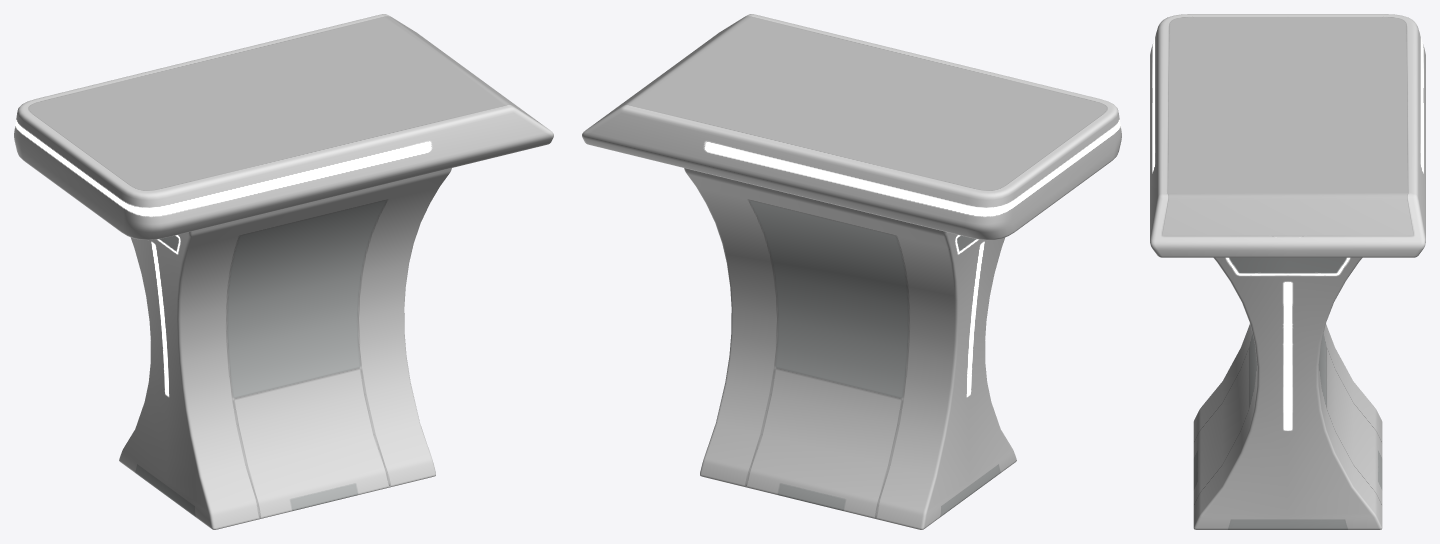
The model's file is BarTable02.FBX.
The picture shows the model from 3 angles, left to right: view 1: azimuth 30°, elevation 25°; view 2: azimuth 150°, elevation 25°; view 3: azimuth 270°, elevation 25°; orthographic projection.
Parts seen in each view (by area): view 1: BarTable02; view 2: BarTable02; view 3: BarTable02.
Part boxes in pixels (box(x1,y1,x2,y2)): BarTable02: box(14, 14, 553, 529); BarTable02: box(582, 14, 1121, 529); BarTable02: box(1150, 14, 1425, 529).
Size of what is drawn, in the model's own units: 1.3 by 1.1 by 0.7543.
